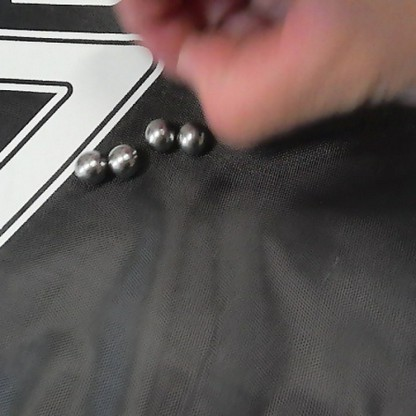ironball: (145, 118, 174, 150), (73, 150, 103, 179), (178, 121, 204, 154), (107, 146, 136, 175)
